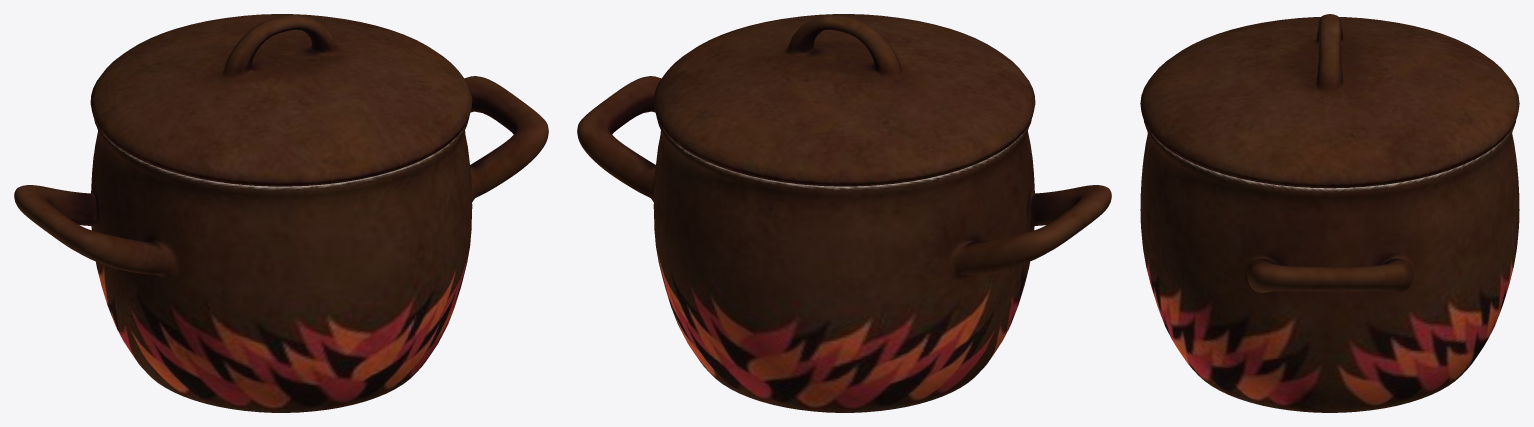
Rendered from pot_enamel_01.glb.
The picture shows the model from 3 angles, left to right: view 1: azimuth 30°, elevation 25°; view 2: azimuth 150°, elevation 25°; view 3: azimuth 270°, elevation 25°; orthographic projection.
Parts seen in each view (by area): view 1: pot_enamel_01_base, pot_enamel_01_lid; view 2: pot_enamel_01_base, pot_enamel_01_lid; view 3: pot_enamel_01_base, pot_enamel_01_lid.
Boxes of the visible parts, x1=… form: pot_enamel_01_base: x1=14, y1=76, x2=548, y2=412; pot_enamel_01_lid: x1=90, y1=14, x2=472, y2=186; pot_enamel_01_base: x1=577, y1=76, x2=1111, y2=412; pot_enamel_01_lid: x1=653, y1=14, x2=1035, y2=186; pot_enamel_01_base: x1=1140, y1=121, x2=1519, y2=412; pot_enamel_01_lid: x1=1140, y1=14, x2=1519, y2=188.
Bounding box in the file's own units: 0.2629 × 0.1783 × 0.1805.
1 material, 1 textured.
